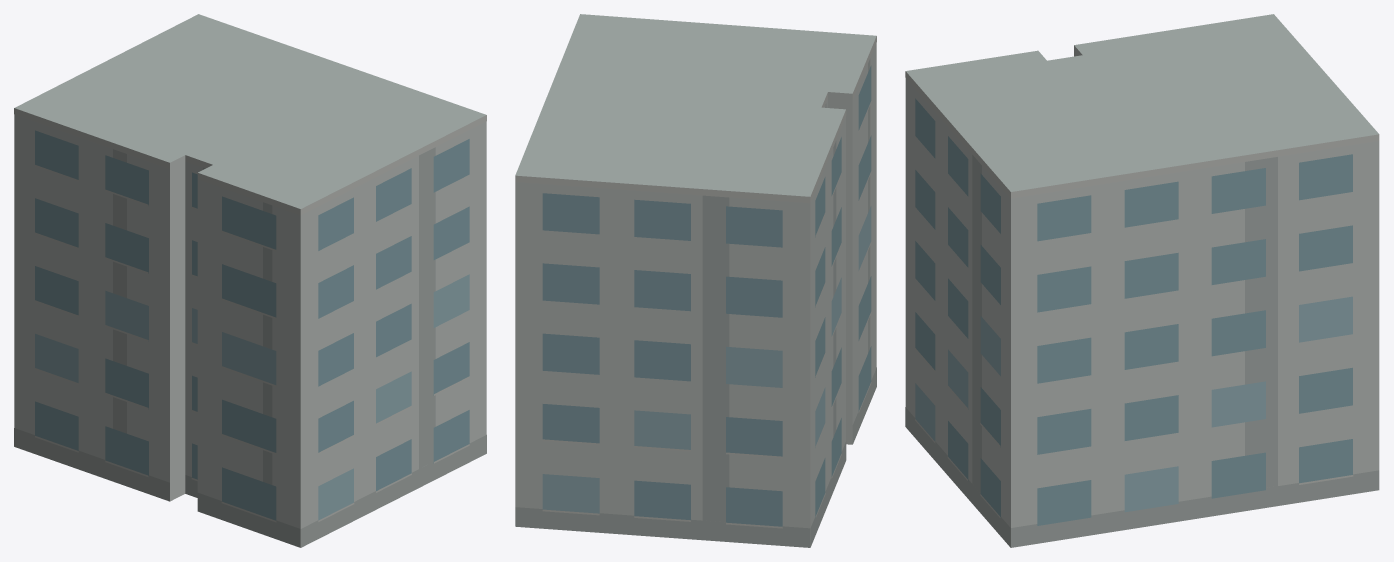
Rendered from survey-upis-32867558.glb.
3 renders of one model, left to right at view 1: azimuth 30°, elevation 25°; view 2: azimuth 150°, elevation 25°; view 3: azimuth 270°, elevation 25°, orthographic. The views are drawn at different scales.
Parts seen in each view (by area): view 1: survey-upis-32867558.tmp; view 2: survey-upis-32867558.tmp; view 3: survey-upis-32867558.tmp.
Boxes of the visible parts, x1=… form: survey-upis-32867558.tmp: x1=14, y1=14, x2=486, y2=547; survey-upis-32867558.tmp: x1=515, y1=14, x2=876, y2=547; survey-upis-32867558.tmp: x1=905, y1=14, x2=1379, y2=547.
Bounding box in the file's own units: 14.12 × 13.15 × 15.88.
